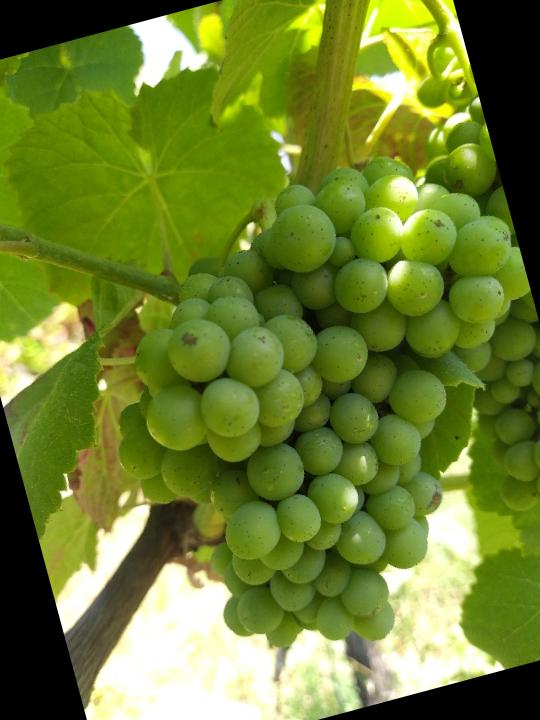grape: (58, 126, 540, 696)
